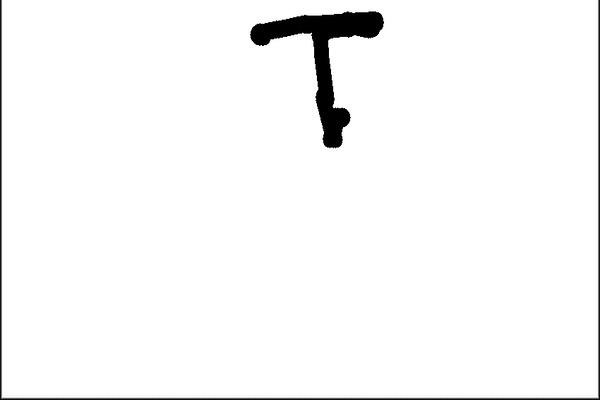T: (236, 7, 407, 155)
